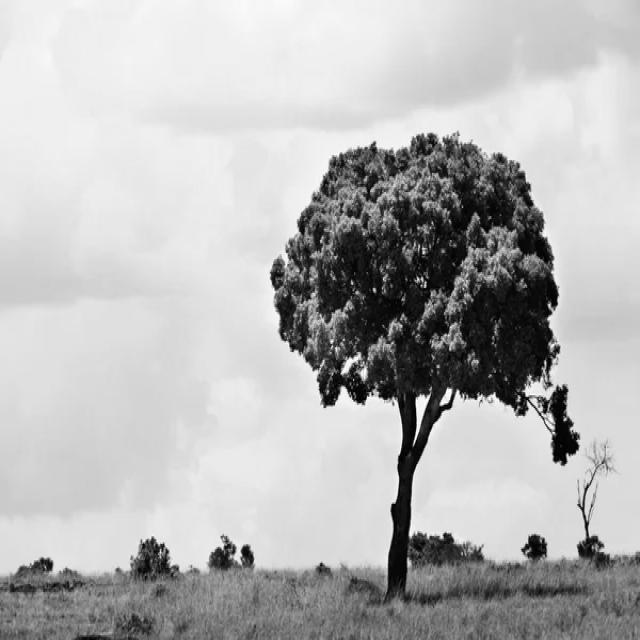Tree: (271, 133, 560, 599)
